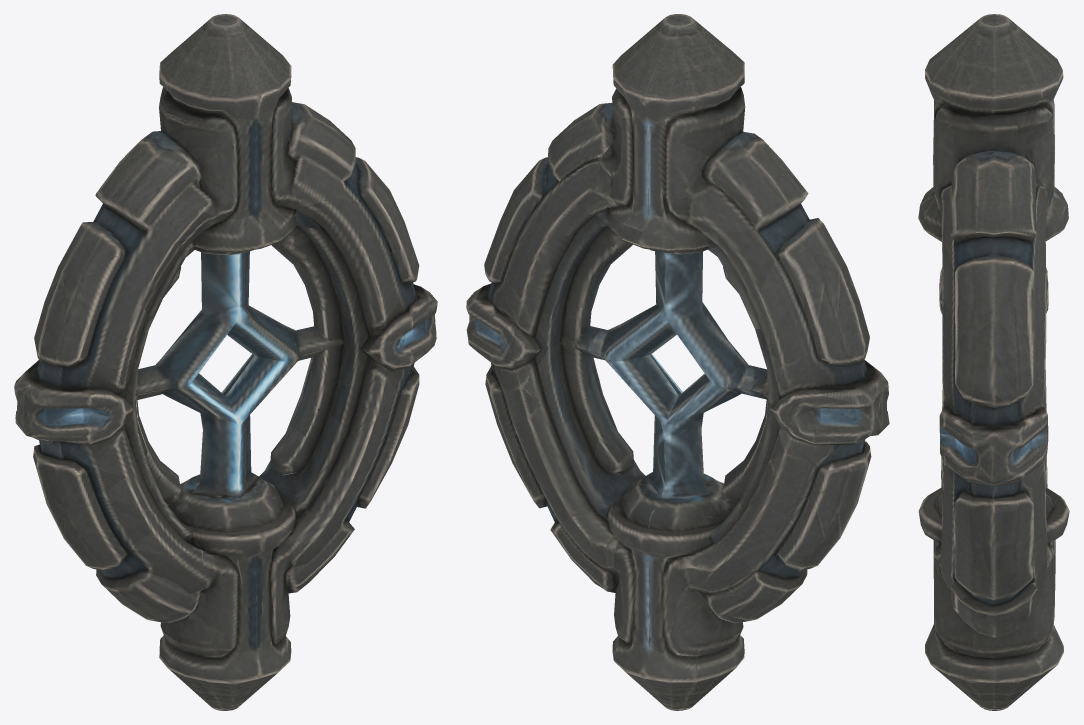
The model's file is small_glyph_01.glb.
The picture shows the model from 3 angles, left to right: view 1: azimuth 30°, elevation 25°; view 2: azimuth 150°, elevation 25°; view 3: azimuth 270°, elevation 25°; orthographic projection.
Visible parts, largest first — view 1: mesh_node; view 2: mesh_node; view 3: mesh_node.
Boxes of the visible parts, <box> form: mesh_node: <box>14,14,437,710</box>; mesh_node: <box>466,14,889,710</box>; mesh_node: <box>918,14,1069,710</box>.
Size of the model in its own units: 0.625 by 1 by 0.2007.
1 material, 1 textured.
